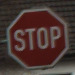stopsign: (7, 8, 69, 70)
